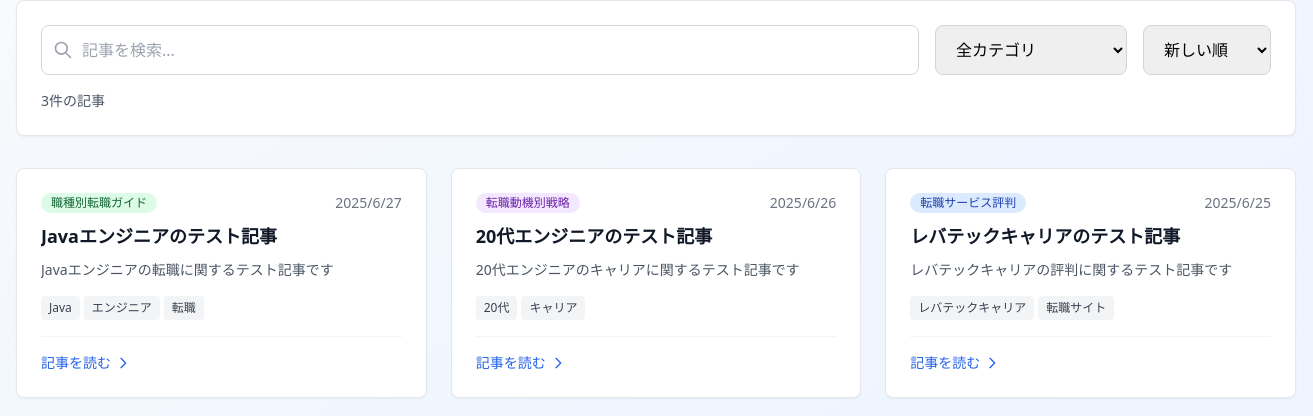
Test: AllArticlesList › フィルタークリア機能が動作する
検索とカテゴリフィルターを適用
Type "Java" into the field with placeholder "記事を検索...".
click(480, 50); type("Java")  # box [41, 25, 919, 75]
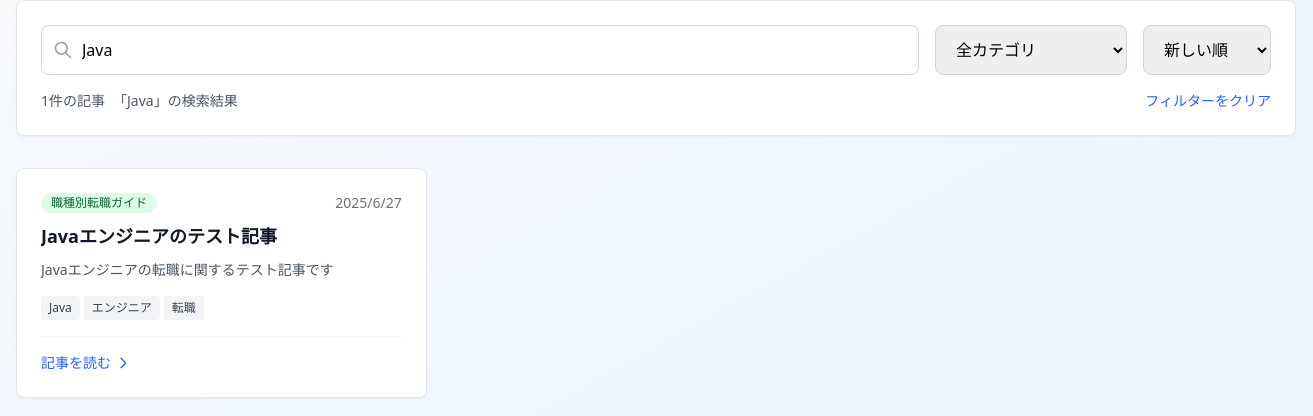
Select "職種別転職ガイド" in the 1st dropdown showing "全カテゴリ" at (1031, 50), box [935, 25, 1127, 75]
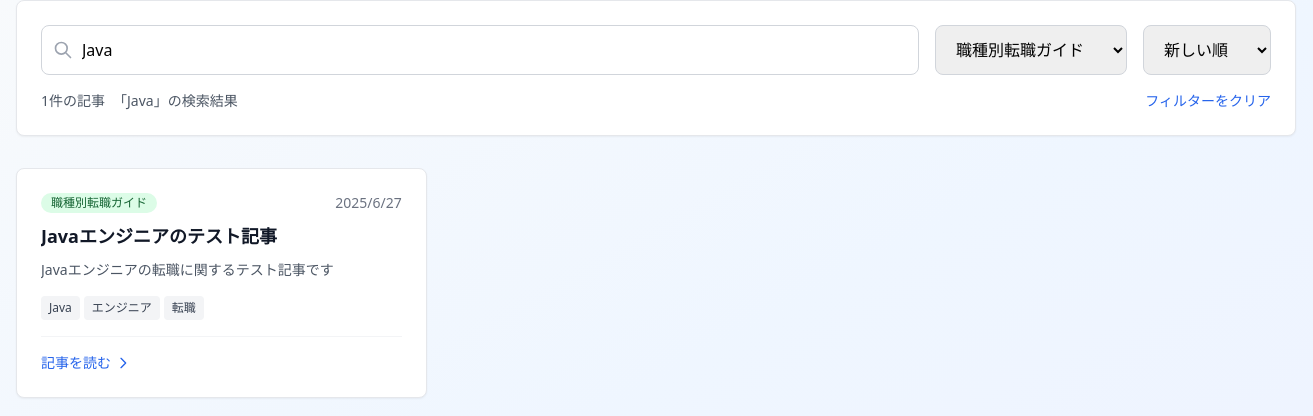
Expected: the button "フィルターをクリア" is shown
フィルタークリアボタンをクリック
Click the button "フィルターをクリア".
click(1208, 101)  # box [1145, 91, 1271, 111]
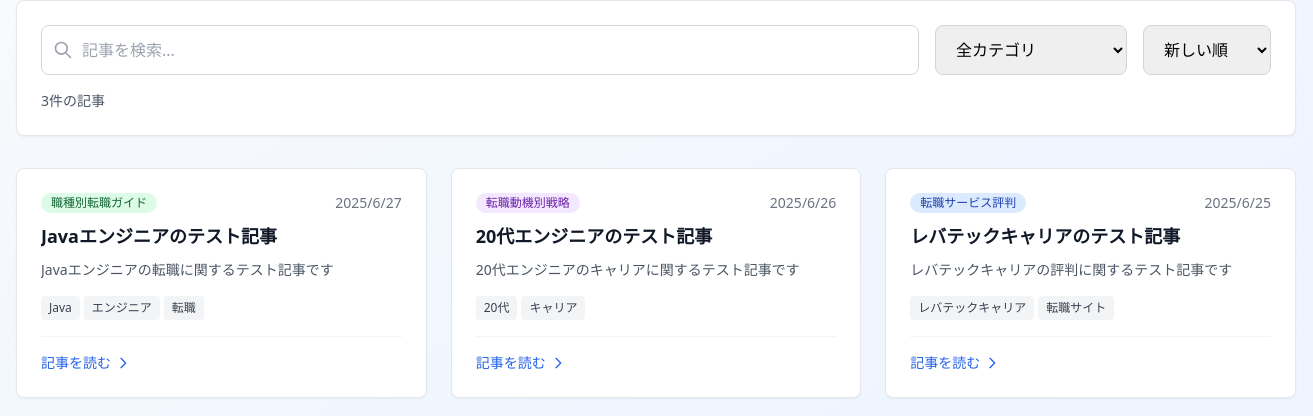
Expected: the heading "20代エンジニアのテスト記事" is shown, [476, 224, 712, 248]
Expected: the heading "レバテックキャリアのテスト記事" is shown, [910, 224, 1180, 248]
Expected: the field with placeholder "記事を検索..." is empty, [41, 25, 919, 75]
